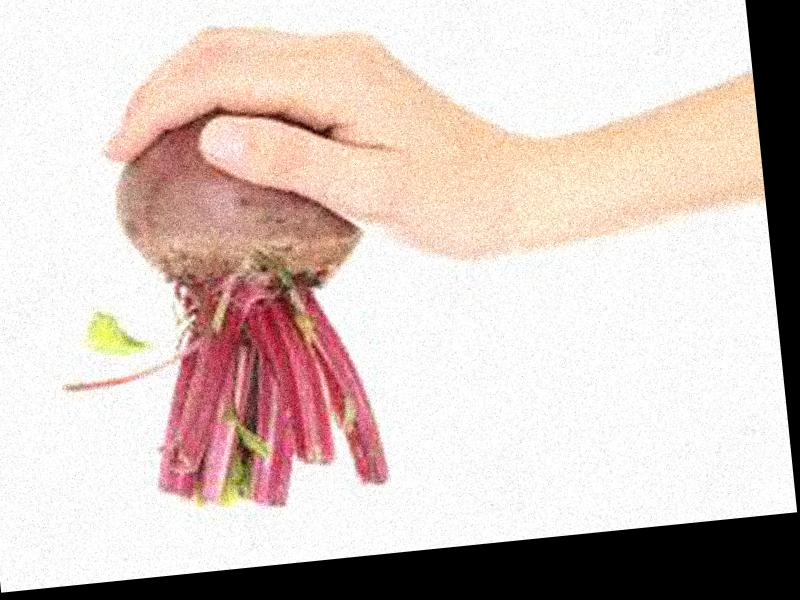Beet: (34, 95, 388, 526)
